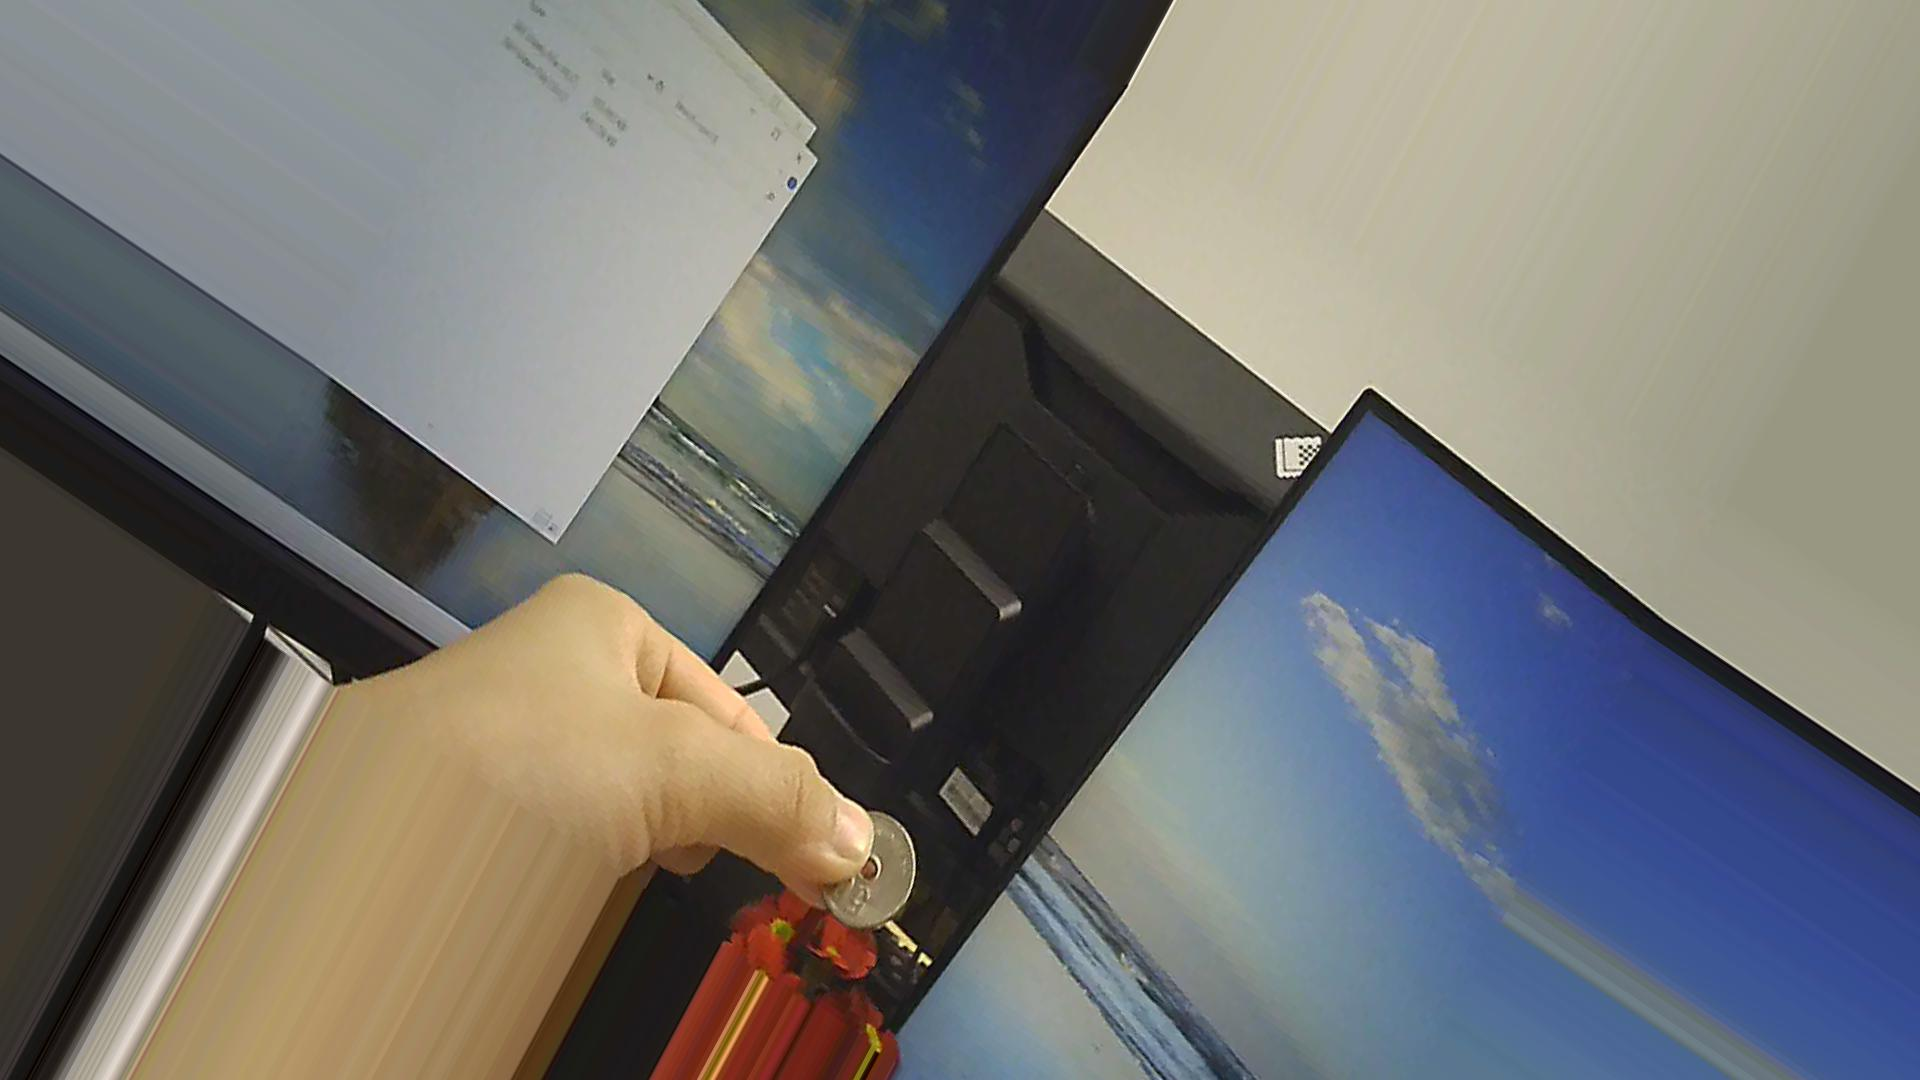50 Yen: (811, 799, 909, 928)
